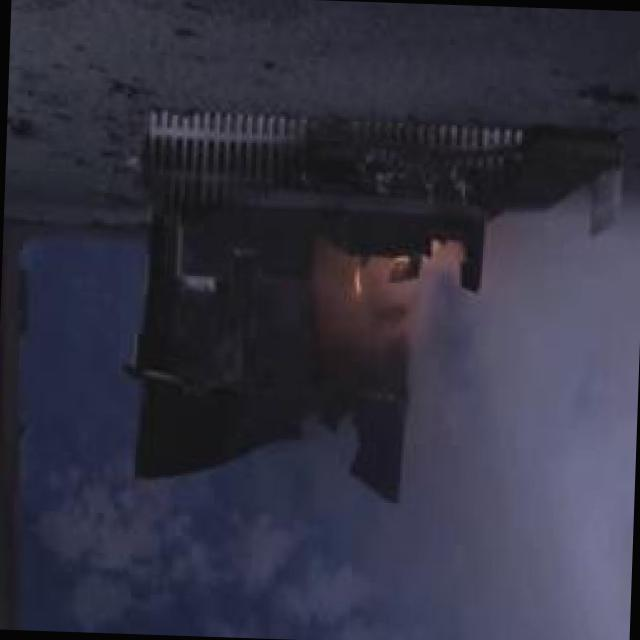smoke: (399, 322, 640, 640)
